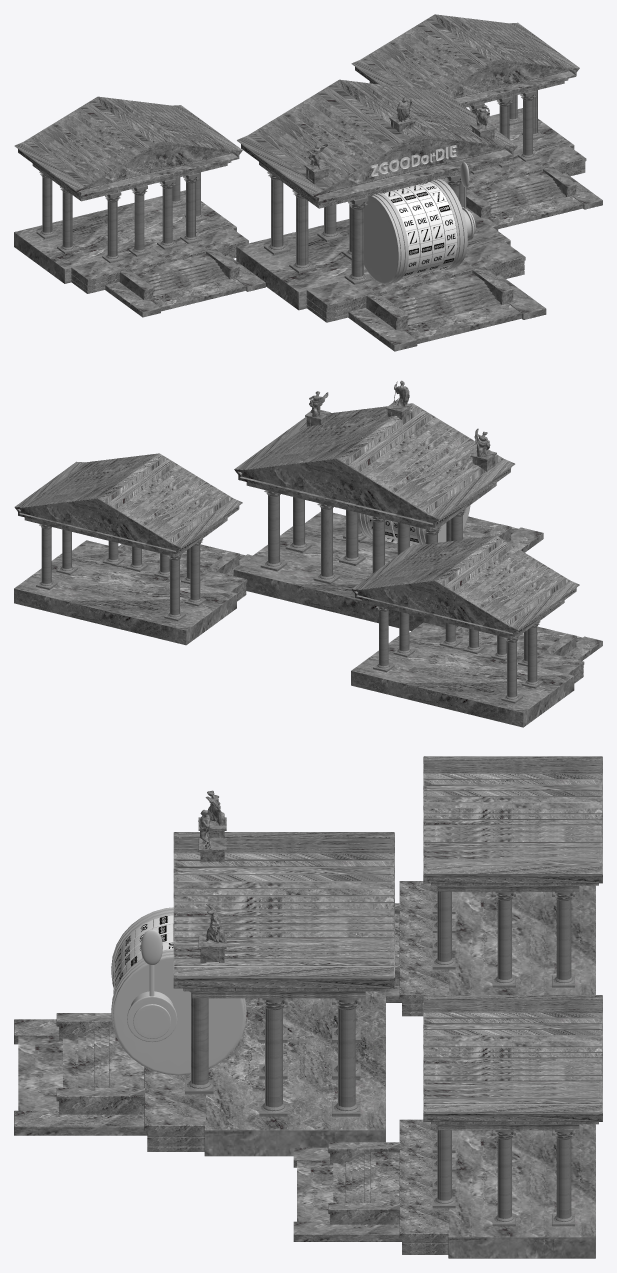
The model's file is house.glb.
The picture shows the model from 3 angles, top to bottom: view 1: azimuth 30°, elevation 25°; view 2: azimuth 150°, elevation 25°; view 3: azimuth 270°, elevation 25°; orthographic projection. The views are drawn at different scales.
Visible parts, largest first — view 1: 平面, 平面.001, 平面.002, 立方体.039, 立方体, 立方体.001, 立方体.038, 柱体, 立方体.049, 立方体.010, 立方体.011, 立方体.009 (+34 smaller); view 2: 平面, 平面.001, 平面.002, 立方体.039, 立方体.050, 立方体, 立方体.038, 立方体.049, 柱体.019, 柱体.024, 立方体.012, 柱体.017 (+17 smaller); view 3: 平面, 平面.001, 平面.002, 立方体, 立方体.050, 立方体.039, 柱体.004, 立方体.049, 立方体.038, 立方体.001, 立方体.011, 立方体.009 (+23 smaller).
Part boxes in pixels (x1,y1,x2,y2): 平面: (237,79,517,204); 平面.001: (14,96,242,197); 平面.002: (351,14,579,104); 立方体.039: (14,190,236,283); 立方体: (236,208,510,310); 立方体.001: (306,241,525,322); 立方体.038: (71,228,248,293); 柱体: (364,193,408,283); 立方体.049: (441,146,586,189); 立方体.010: (402,303,521,343); 立方体.011: (348,275,546,351); 立方体.009: (366,267,514,329); 平面: (234,403,514,527); 平面.001: (351,535,579,636); 平面.002: (14,453,242,554); 立方体.039: (351,635,574,727); 立方体.050: (14,553,236,645); 立方体: (233,526,458,631); 立方体.038: (409,622,584,683); 立方体.049: (72,540,247,601); 柱体.019: (313,503,340,584); 柱体.024: (260,490,287,571); 立方体.012: (246,482,432,530); 柱体.017: (339,510,365,565); 平面: (173,832,394,988); 平面.001: (423,756,602,883); 平面.002: (423,995,602,1121); 立方体: (204,991,385,1156); 立方体.050: (448,1124,595,1258); 立方体.039: (449,885,595,994); 柱体.004: (113,952,244,1075); 立方体.049: (399,1119,449,1254); 立方体.038: (399,881,449,1016); 立方体.001: (144,1066,205,1151); 立方体.011: (14,1019,147,1135); 立方体.009: (56,1013,144,1114).
Bounding box in the file's own units: 3.08 × 1.08 × 2.12.
5 materials, 4 textured.
